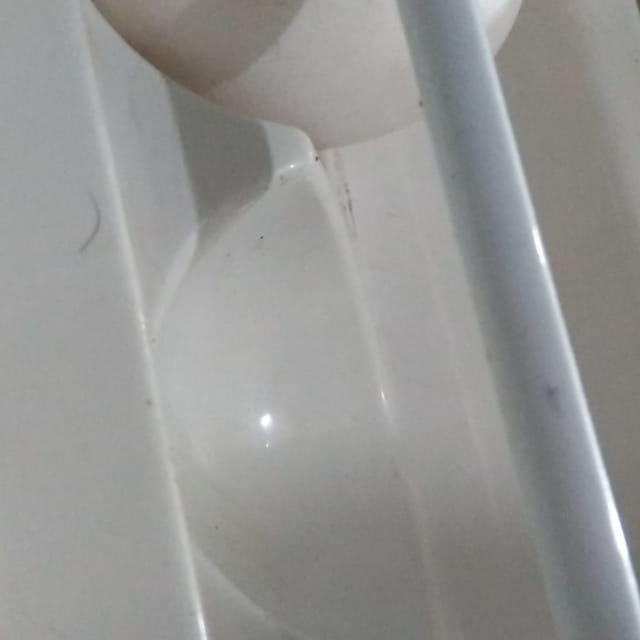egg: (42, 0, 588, 110)
